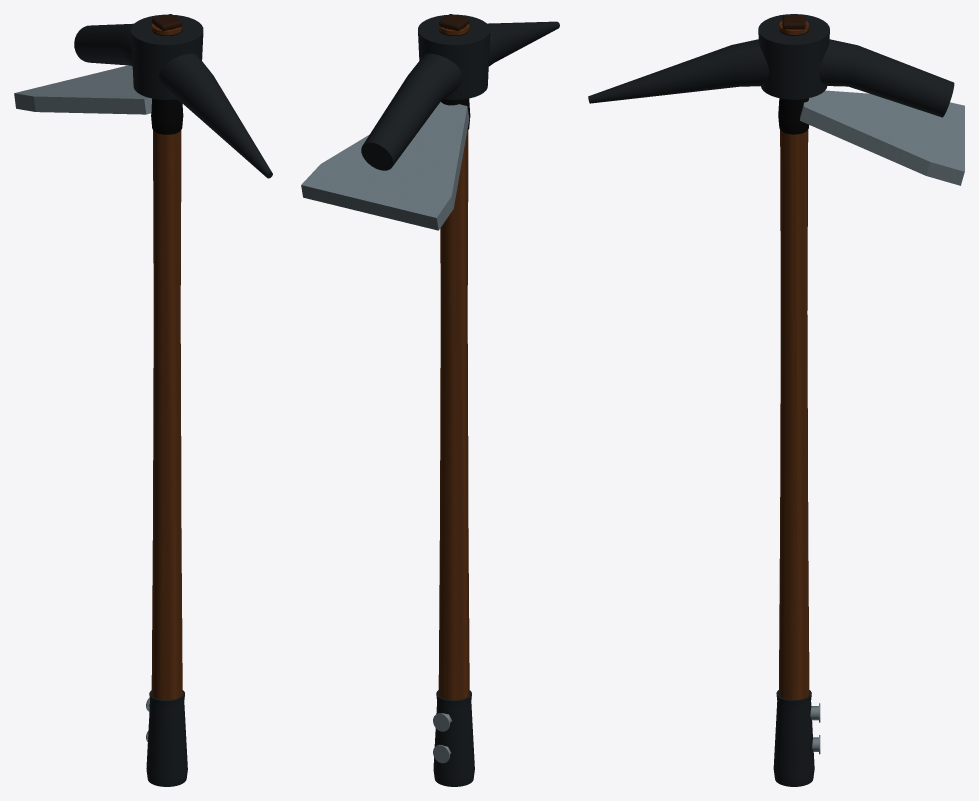
The model's file is Mattock.gltf.
3 renders of one model, left to right at view 1: azimuth 30°, elevation 25°; view 2: azimuth 150°, elevation 25°; view 3: azimuth 270°, elevation 25°, orthographic.
Visible parts, largest first — view 1: Mattock__Body; view 2: Mattock__Body; view 3: Mattock__Body.
Boxes of the visible parts, x1=… form: Mattock__Body: x1=14, y1=14, x2=272, y2=786; Mattock__Body: x1=301, y1=14, x2=559, y2=786; Mattock__Body: x1=588, y1=14, x2=964, y2=786.
Size of the model in its own units: 0.168 by 0.8988 by 0.4039.
1 material, 1 textured.
